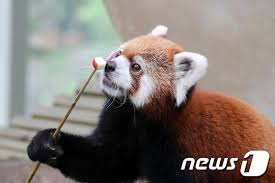redPanda: (26, 24, 209, 156)
